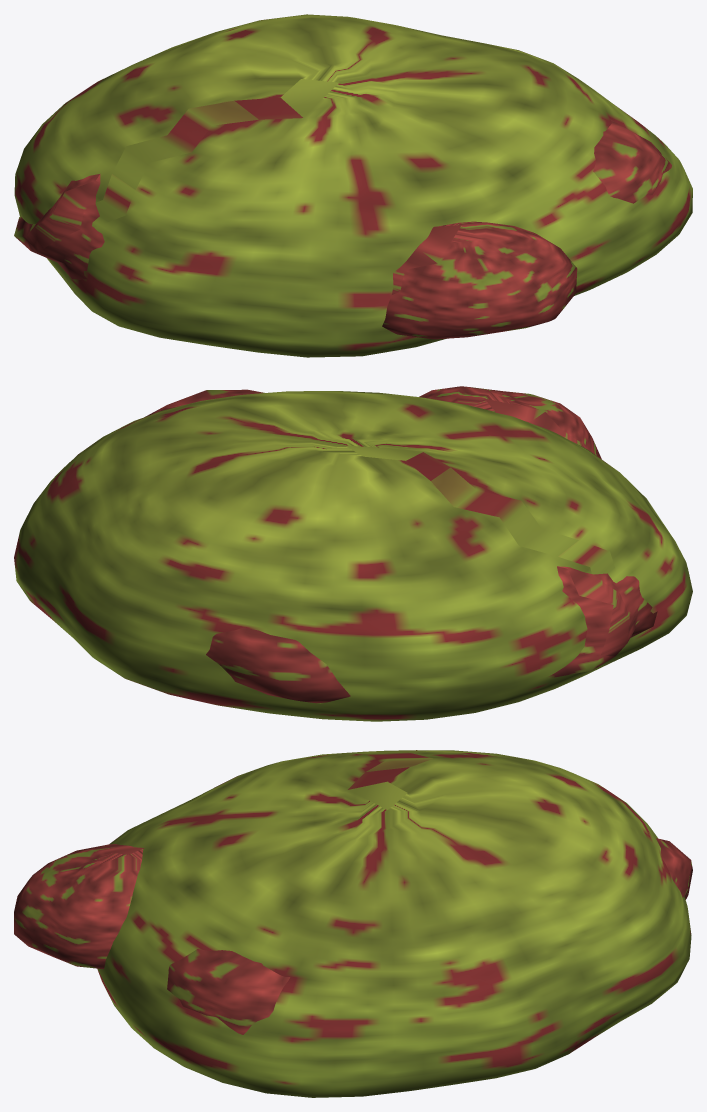
Rendered from sphagnum.glb.
3 views of the same model, one above another, from view 1: azimuth 30°, elevation 25°; view 2: azimuth 150°, elevation 25°; view 3: azimuth 270°, elevation 25° (orthographic). The views are drawn at different scales.
Visible parts, largest first — view 1: sphagnum; view 2: sphagnum; view 3: sphagnum.
Boxes of the visible parts, left/top/right/bottom form: sphagnum: left=14, top=14, right=692, bottom=357; sphagnum: left=14, top=386, right=692, bottom=721; sphagnum: left=14, top=750, right=692, bottom=1097.
Size of the model in its own units: 0.4457 by 0.1034 by 0.4396.
1 material, 1 textured.
